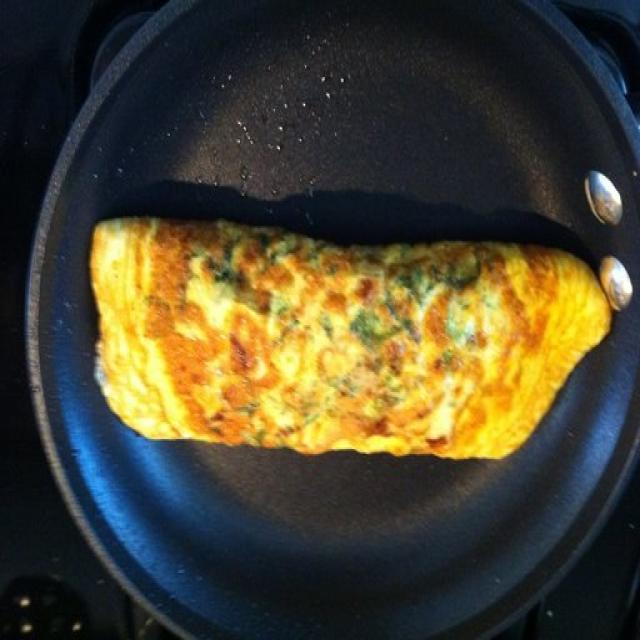telur_ayam_dadar: (89, 216, 614, 464)
